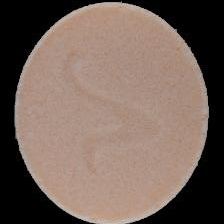63629-4305: (0, 0, 224, 224)
